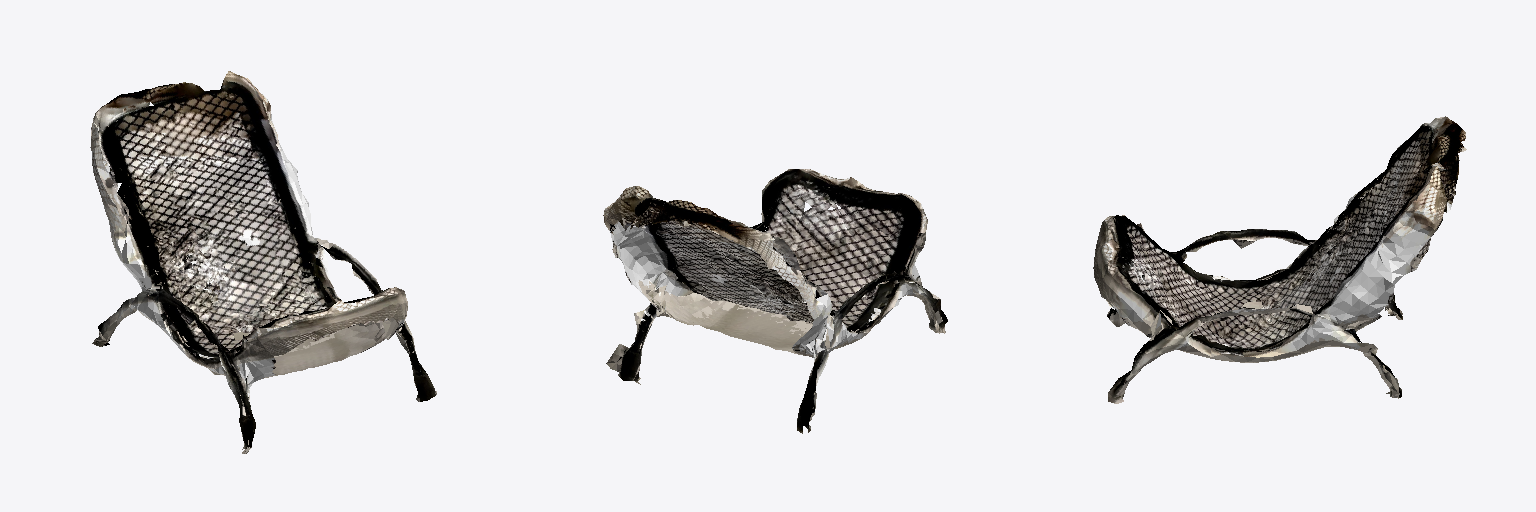
3 renders of one model, left to right at view 1: azimuth 30°, elevation 25°; view 2: azimuth 150°, elevation 25°; view 3: azimuth 270°, elevation 25°, orthographic.
Visible parts, largest first — view 1: Sedacka_Lowpoly_model.004; view 2: Sedacka_Lowpoly_model.004; view 3: Sedacka_Lowpoly_model.004.
Boxes of the visible parts, <box> form: Sedacka_Lowpoly_model.004: <box>90,71,436,453</box>; Sedacka_Lowpoly_model.004: <box>603,169,947,433</box>; Sedacka_Lowpoly_model.004: <box>1093,116,1466,403</box>.
Bounding box in the file's own units: 1.98 × 2.14 × 3.14.
1 materials, 1 textured.